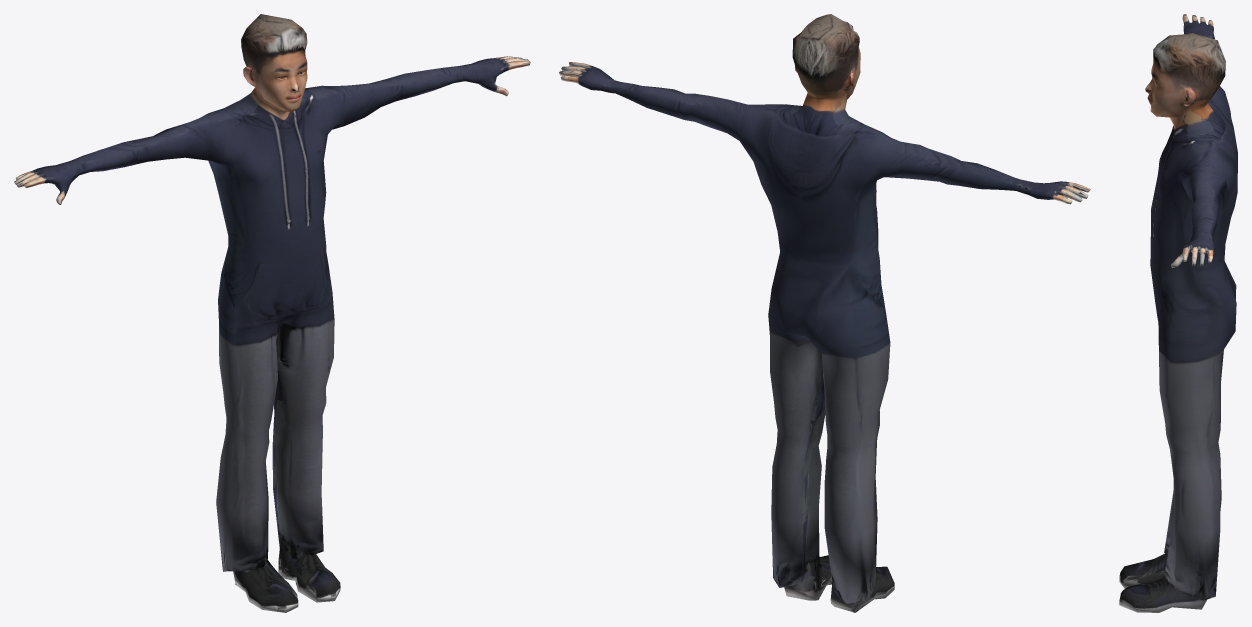
Rendered from _0803040043_texture.fbx.
3 views of the same model, side by side, from view 1: azimuth 30°, elevation 25°; view 2: azimuth 150°, elevation 25°; view 3: azimuth 270°, elevation 25° (orthographic). The views are drawn at different scales.
Visible parts, largest first — view 1: input; view 2: input; view 3: input.
Boxes of the visible parts, bbox=[...] form: input: bbox=[14, 14, 530, 612]; input: bbox=[559, 14, 1090, 612]; input: bbox=[1119, 14, 1237, 612].
Bounding box in the file's own units: 190 × 200 × 38.53.
Materials: 1 (1 with a texture image).
